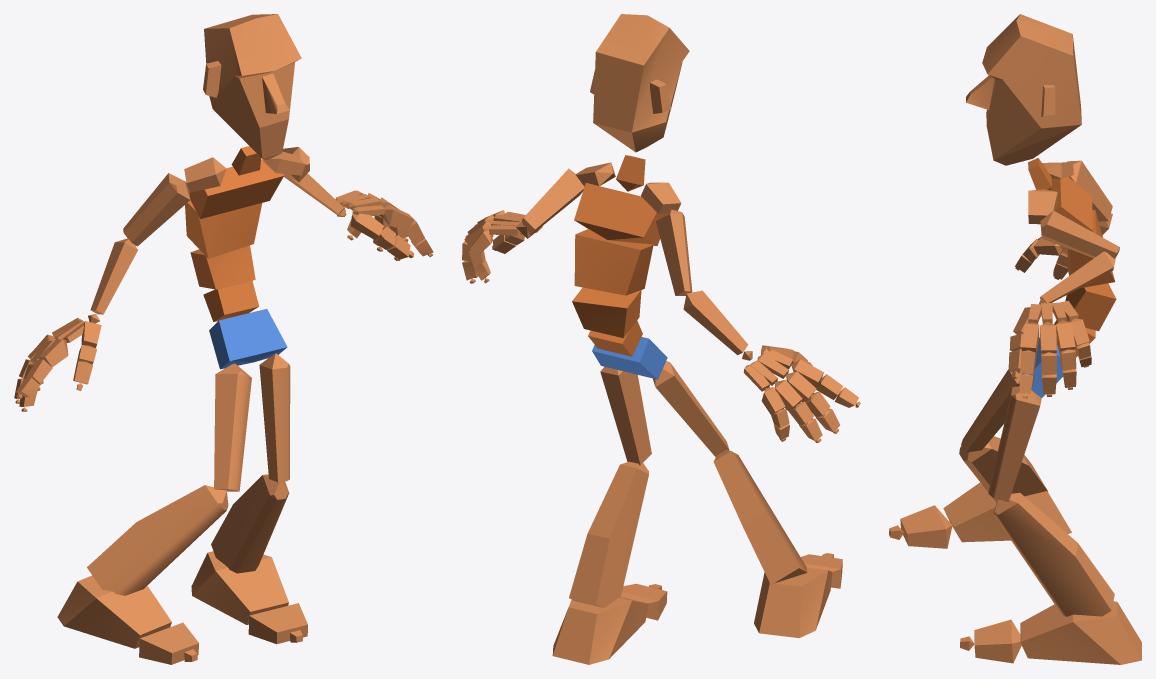
The picture shows the model from 3 angles, left to right: view 1: azimuth 30°, elevation 25°; view 2: azimuth 150°, elevation 25°; view 3: azimuth 270°, elevation 25°; orthographic projection. The views are drawn at different scales.
Visible parts, largest first — view 1: BOPED_Head, BOPED_R_leg, BOPED_R_foot, BOPED_L_leg, BOPED_R_foot01, BOPED_R_legup, BOPED_L_legup, Bone01, Bone04, Bone05, BOPED_R_arm_upper, Bone03 (+8 smaller); view 2: BOPED_Head, BOPED_L_leg, BOPED_R_leg, BOPED_R_foot01, BOPED_R_foot, Bone04, Bone05, BOPED_L_legup, Bone03, BOPED_R_legup, BOPED_R_arm_upper, Bone01 (+8 smaller); view 3: BOPED_Head, BOPED_L_leg, BOPED_R_foot01, BOPED_R_foot, BOPED_L_legup, BOPED_L_arm_upper, BOPED_R_legup, BOPED_R_leg, BOPED_R_foot_toe01, BOPED_R_foot_toe04, Bone03, Bone05 (+10 smaller).
Part boxes in pixels (x1=…): BOPED_Head: x1=203, y1=14, x2=301, y2=159; BOPED_R_leg: x1=87, y1=485, x2=228, y2=595; BOPED_R_foot: x1=57, y1=575, x2=171, y2=648; BOPED_L_leg: x1=211, y1=474, x2=289, y2=573; BOPED_R_foot01: x1=191, y1=551, x2=288, y2=624; BOPED_R_legup: x1=214, y1=363, x2=251, y2=491; BOPED_L_legup: x1=259, y1=353, x2=290, y2=482; Bone01: x1=209, y1=309, x2=287, y2=369; Bone04: x1=185, y1=200, x2=262, y2=258; Bone05: x1=189, y1=159, x2=283, y2=218; BOPED_R_arm_upper: x1=123, y1=173, x2=190, y2=246; Bone03: x1=190, y1=245, x2=255, y2=289; BOPED_Head: x1=590, y1=14, x2=689, y2=152; BOPED_L_leg: x1=569, y1=461, x2=648, y2=607; BOPED_R_leg: x1=713, y1=449, x2=807, y2=584; BOPED_R_foot01: x1=552, y1=597, x2=648, y2=664; BOPED_R_foot: x1=754, y1=567, x2=832, y2=638; Bone04: x1=574, y1=229, x2=653, y2=295; Bone05: x1=574, y1=183, x2=665, y2=245; BOPED_L_legup: x1=600, y1=366, x2=651, y2=465; Bone03: x1=572, y1=287, x2=641, y2=338; BOPED_R_legup: x1=653, y1=361, x2=729, y2=457; BOPED_R_arm_upper: x1=656, y1=209, x2=692, y2=295; Bone01: x1=592, y1=337, x2=667, y2=379; BOPED_Head: x1=966, y1=14, x2=1081, y2=165; BOPED_L_leg: x1=994, y1=492, x2=1114, y2=616; BOPED_R_foot01: x1=1020, y1=601, x2=1141, y2=664; BOPED_R_foot: x1=943, y1=482, x2=1071, y2=542; BOPED_L_legup: x1=988, y1=386, x2=1041, y2=501; BOPED_L_arm_upper: x1=1040, y1=210, x2=1119, y2=258; BOPED_R_legup: x1=961, y1=369, x2=1021, y2=452; BOPED_R_leg: x1=959, y1=436, x2=1047, y2=502; BOPED_R_foot_toe01: x1=900, y1=505, x2=952, y2=548; BOPED_R_foot_toe04: x1=974, y1=619, x2=1021, y2=663; Bone03: x1=1065, y1=283, x2=1116, y2=331; Bone05: x1=1050, y1=177, x2=1093, y2=250.
Bounding box in the file's own units: 130 × 186 × 68.6.
